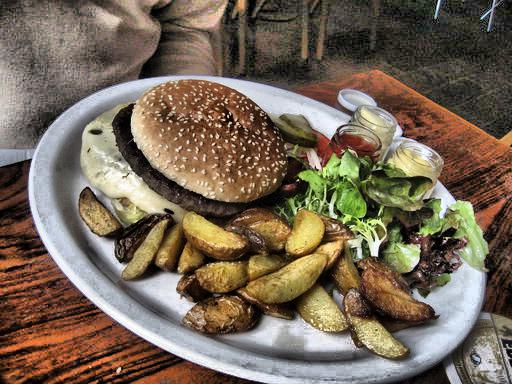burger: (77, 81, 285, 205)
